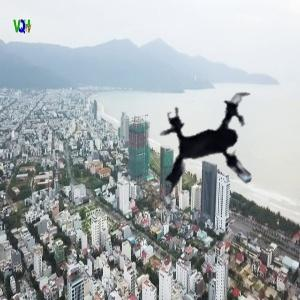drone: (136, 77, 293, 234)
